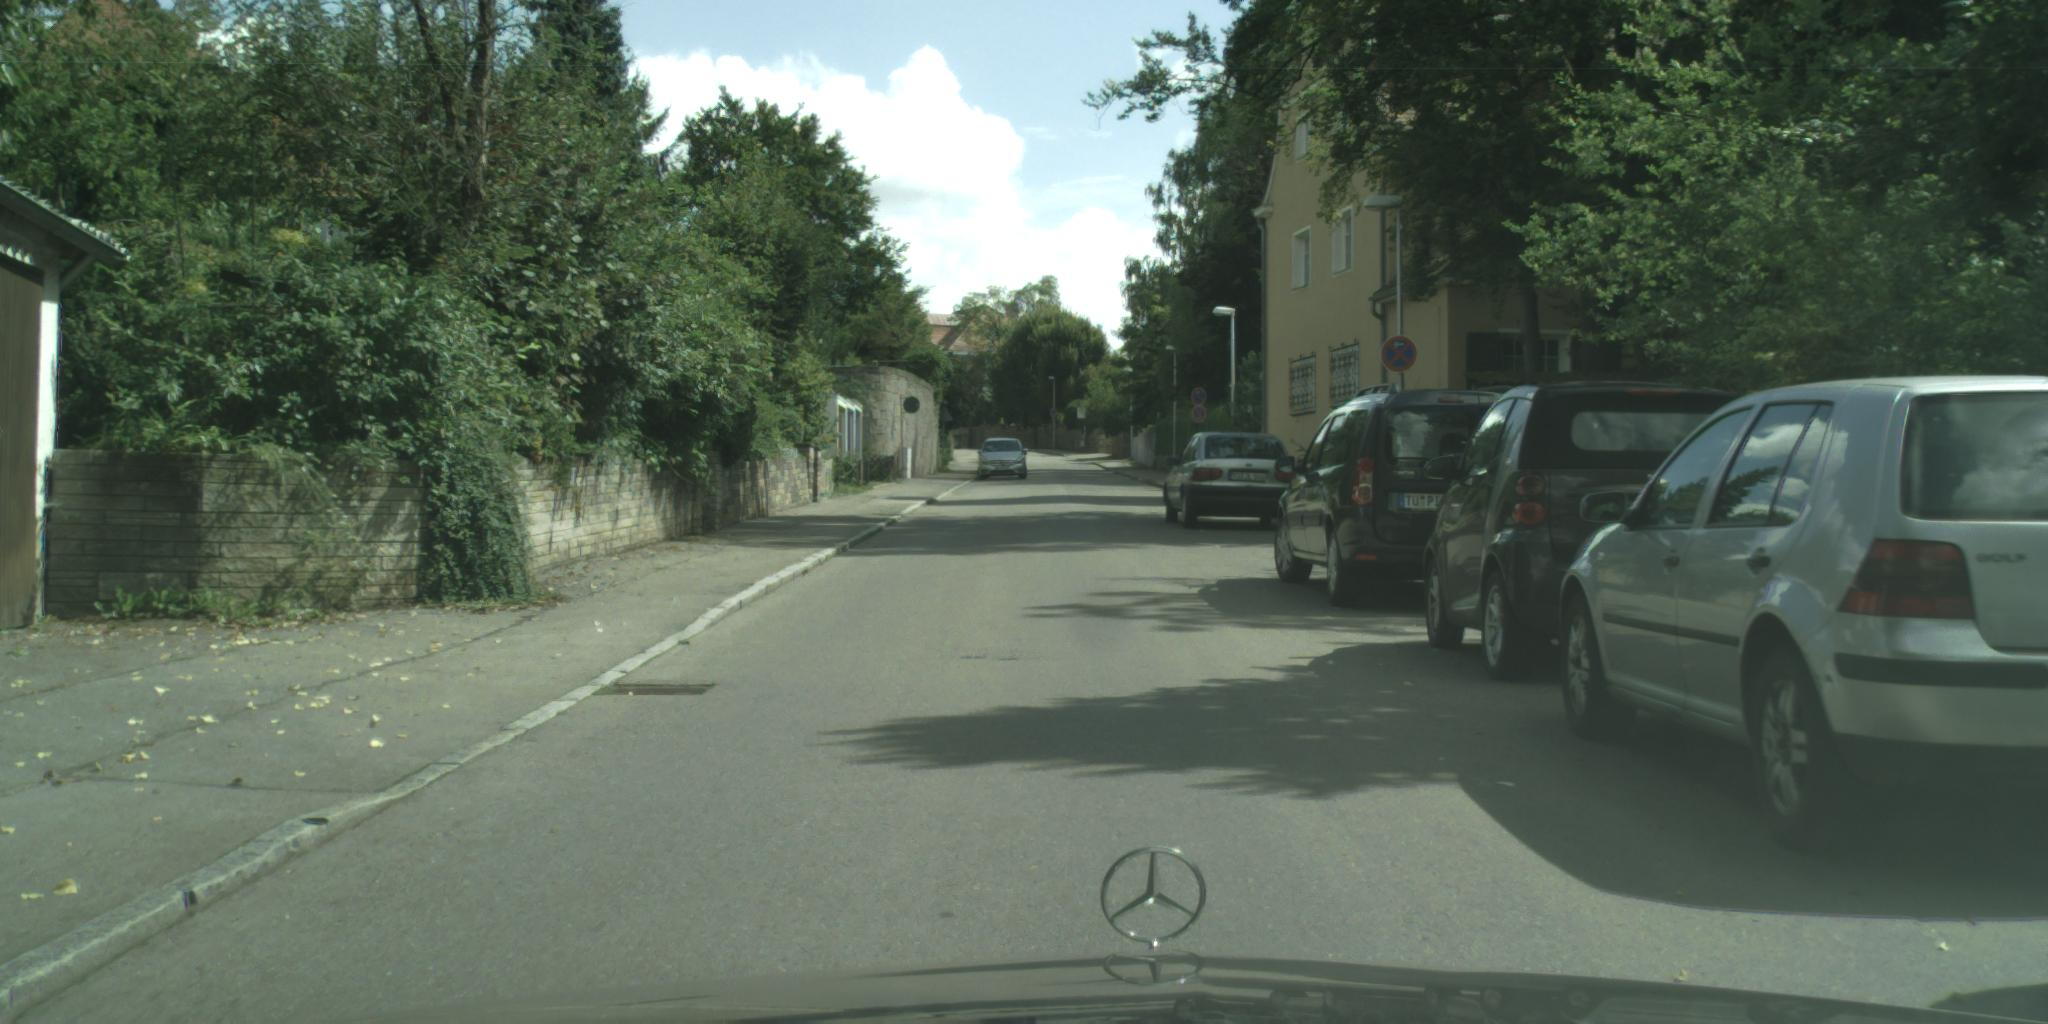car: (1560, 376, 2048, 856), (1421, 381, 1754, 684), (1275, 383, 1522, 609), (1164, 434, 1300, 530), (980, 438, 1029, 482)
